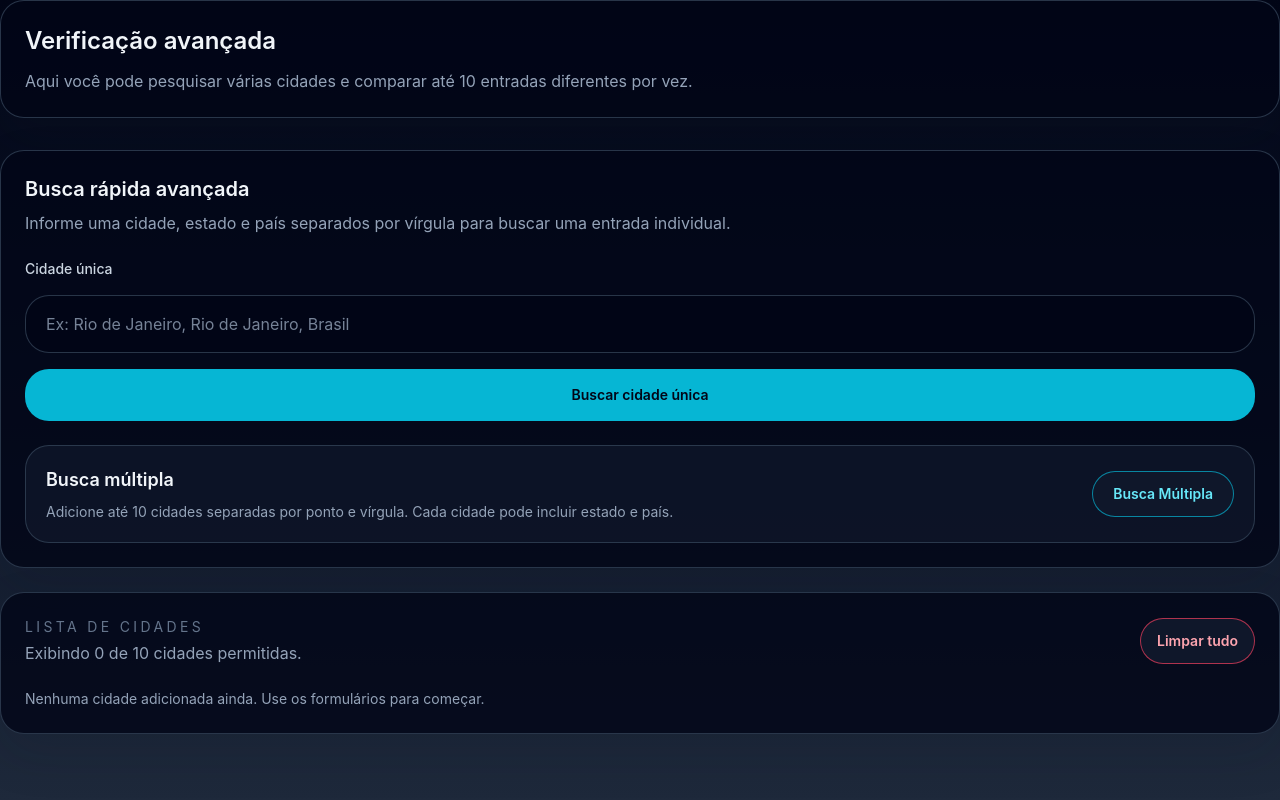
Test: AdvancedWeather › renders the advanced search interface and adds a city card after search
The width and height of the screenshot is (1280, 800).
Type "São Paulo, SP, Brasil" into the field labelled "Cidade única".
click(640, 324); type("São Paulo, SP, Brasil")  # box [25,295,1255,353]
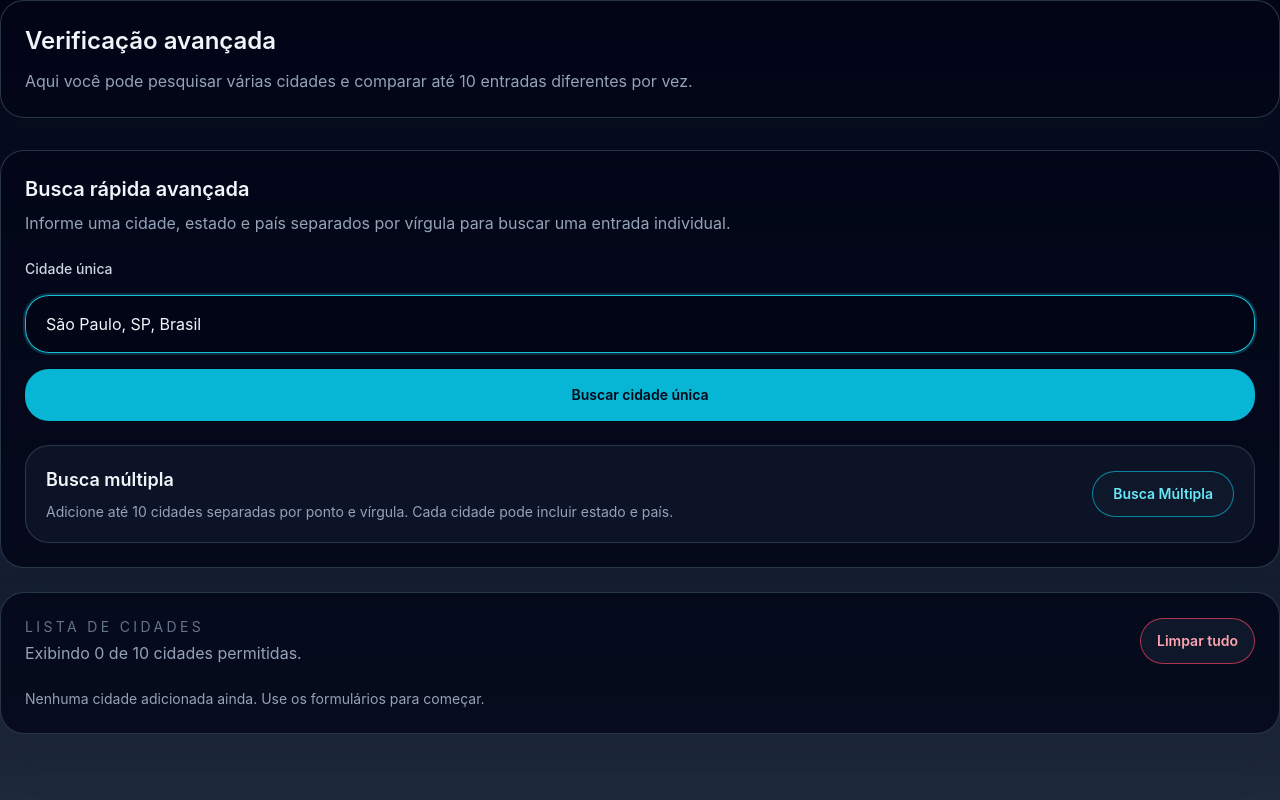
Click the button "Buscar cidade única".
click(640, 395)  # box [25,369,1255,421]
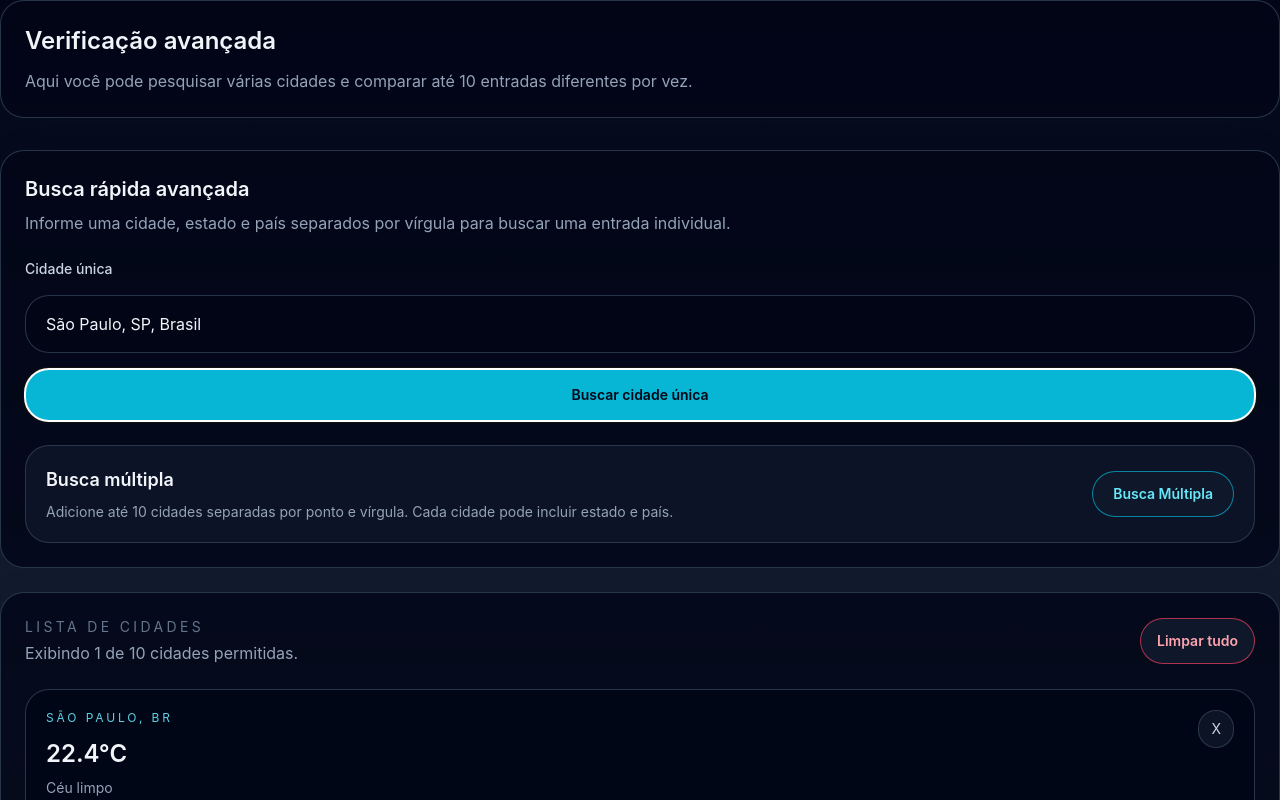
Expected: the text "São Paulo, BR" is shown, [46,710,173,726]
Expected: the text "Céu limpo" is shown, [46,779,113,796]
